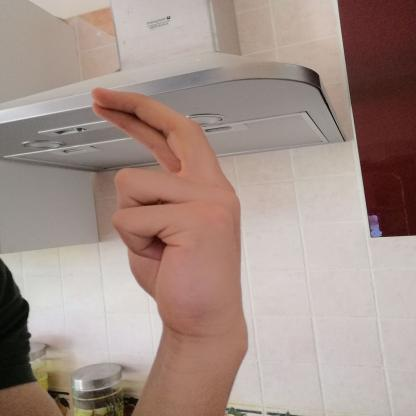ZAY: (75, 79, 260, 348)
